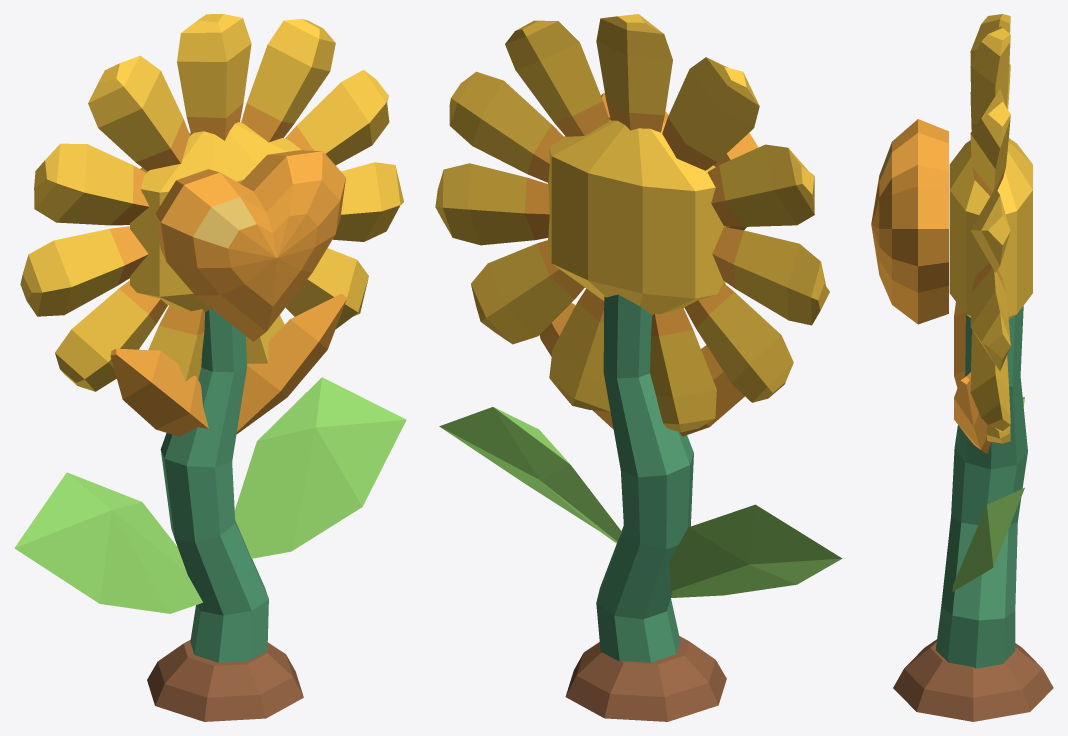
Rendered from 36-sun-heart.glb.
3 renders of one model, left to right at view 1: azimuth 30°, elevation 25°; view 2: azimuth 150°, elevation 25°; view 3: azimuth 270°, elevation 25°, orthographic. The views are drawn at different scales.
Parts seen in each view (by area): view 1: 36-sun-heart_Body; view 2: 36-sun-heart_Body; view 3: 36-sun-heart_Body.
Boxes of the visible parts, <box> form: 36-sun-heart_Body: <box>14,14,406,721</box>; 36-sun-heart_Body: <box>435,14,842,721</box>; 36-sun-heart_Body: <box>871,14,1053,721</box>.
Bounding box in the file's own units: 0.4615 × 0.7448 × 0.1879.
Materials: 1 (1 with a texture image).
